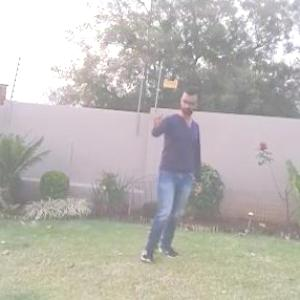takeoff-hand: (142, 100, 167, 126)
